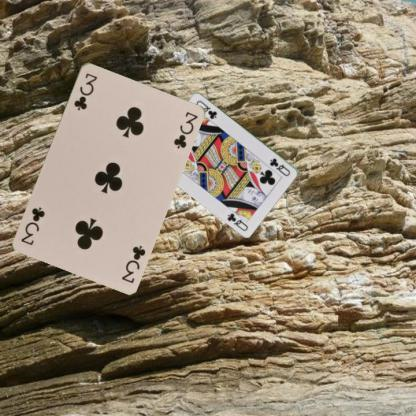3c: (118, 242, 147, 284), (71, 70, 99, 112)
Qc: (267, 156, 292, 178)
